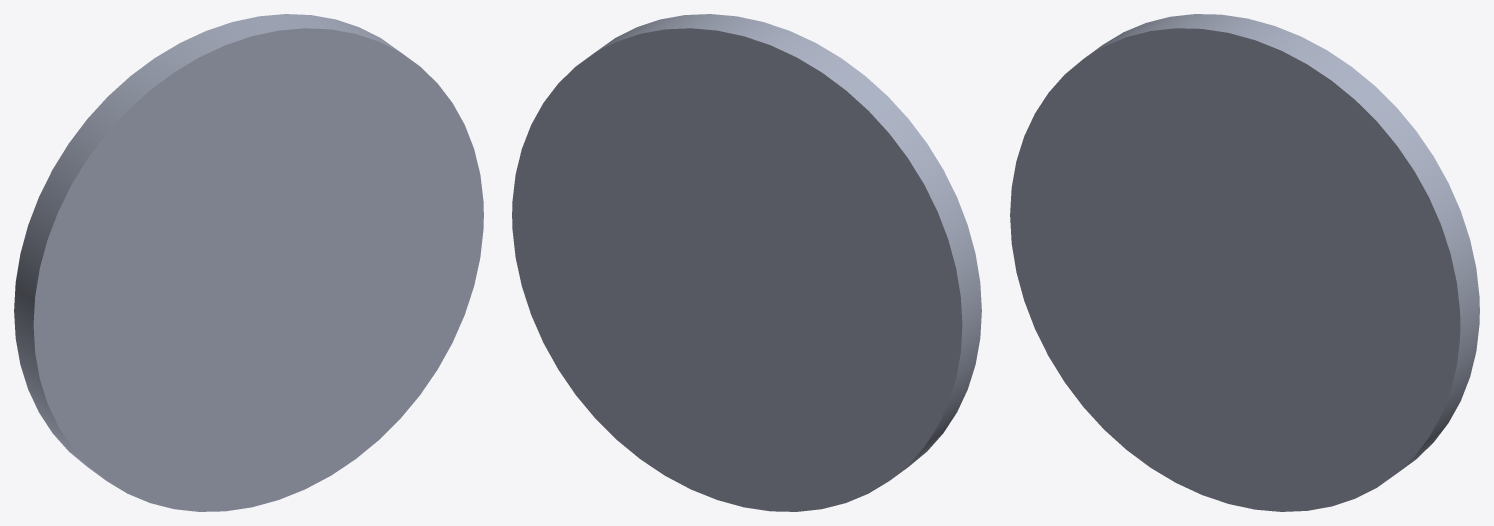
File: one.fbx
3 renders of one model, left to right at view 1: azimuth 30°, elevation 25°; view 2: azimuth 150°, elevation 25°; view 3: azimuth 330°, elevation 25°, orthographic.
Parts seen in each view (by area): view 1: 3DGeom~4; view 2: 3DGeom~4; view 3: 3DGeom~4.
Boxes of the visible parts, left/top/right/bottom form: 3DGeom~4: left=14, top=14, right=483, bottom=511; 3DGeom~4: left=512, top=14, right=981, bottom=511; 3DGeom~4: left=1010, top=14, right=1479, bottom=511.
Bounding box in the file's own units: 0.02 × 0.0015 × 0.02.
